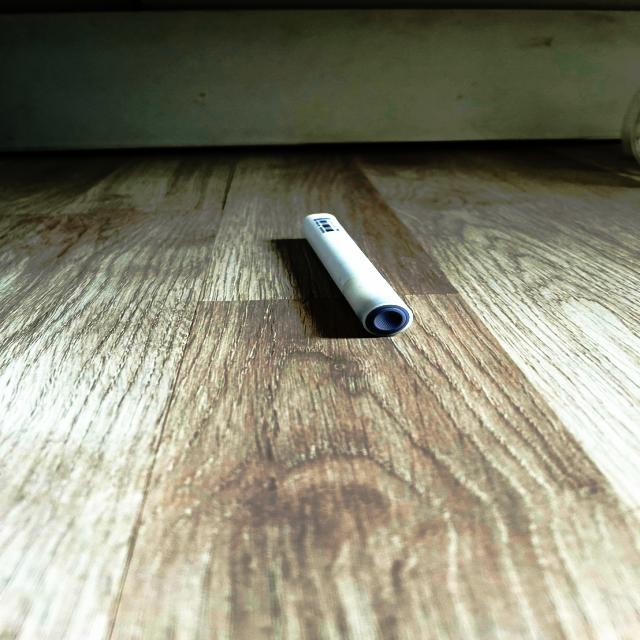HighLight Pen: (303, 213, 413, 337)
